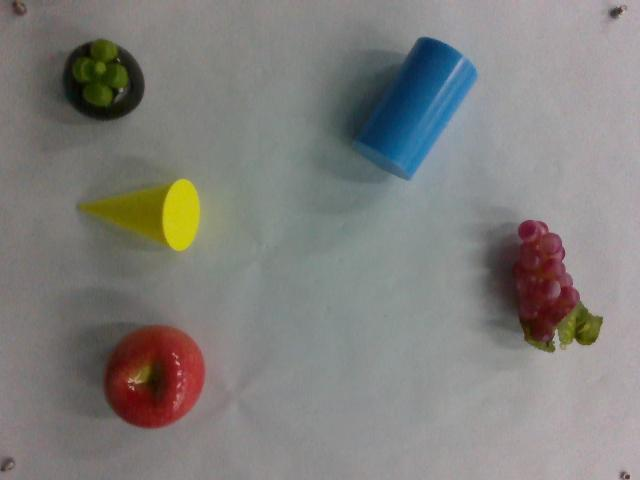apple: (102, 325, 208, 430)
cone: (76, 179, 202, 256)
cylinder: (353, 35, 482, 183)
grape: (509, 217, 602, 355)
mangosteen: (60, 39, 146, 122)
